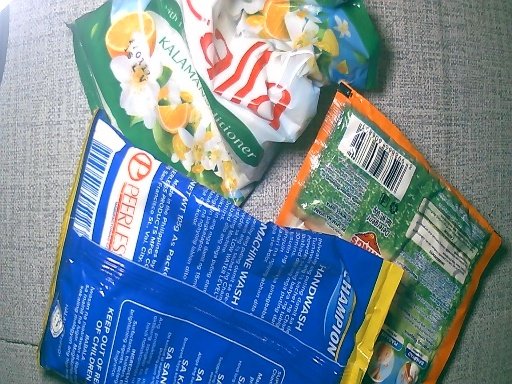plastic: (31, 108, 397, 384), (60, 1, 425, 211), (288, 82, 497, 384)
